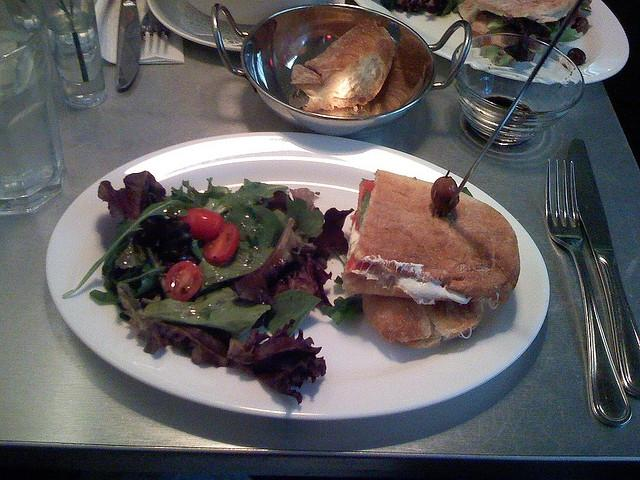lettuce: (122, 308, 326, 406), (62, 197, 194, 297), (192, 194, 282, 295), (272, 208, 354, 309), (134, 286, 270, 346), (98, 170, 166, 220), (264, 290, 322, 336), (161, 176, 232, 208), (285, 195, 324, 243), (480, 45, 516, 67), (551, 20, 583, 42), (356, 190, 371, 227)
tomato: (164, 260, 202, 302), (178, 208, 224, 241), (204, 223, 238, 264)
